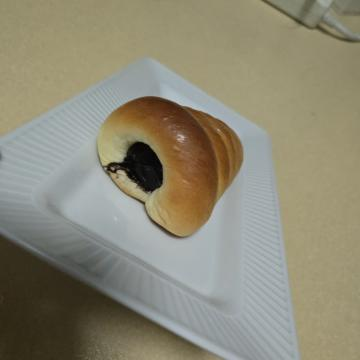cream horn: (89, 109, 260, 274)
